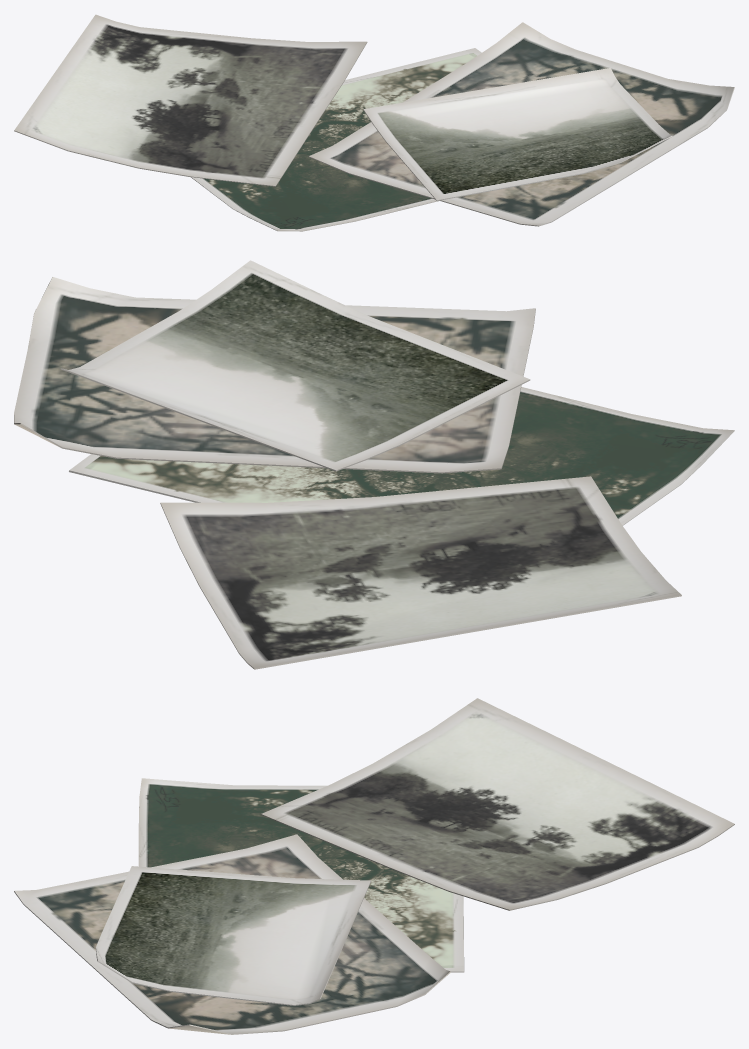
Rendered from Picture_Pile_4.FBX.
3 renders of one model, top to bottom at view 1: azimuth 30°, elevation 25°; view 2: azimuth 150°, elevation 25°; view 3: azimuth 270°, elevation 25°, orthographic. The views are drawn at different scales.
Visible parts, largest first — view 1: Picture_Pile_4; view 2: Picture_Pile_4; view 3: Picture_Pile_4.
Part boxes in pixels (x1,y1,x2,y2): Picture_Pile_4: [14, 14, 734, 231]; Picture_Pile_4: [14, 260, 734, 669]; Picture_Pile_4: [14, 698, 734, 1034].
Bounding box in the file's own units: 71.84 × 3.12 × 68.35.
